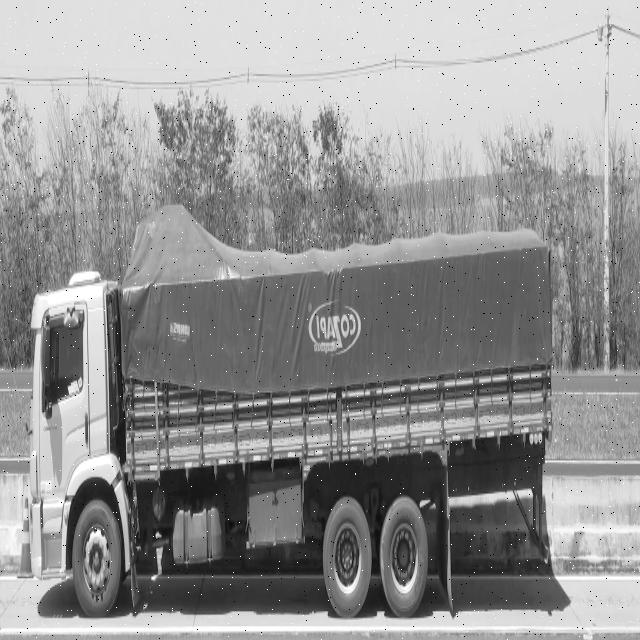-axle: (70, 495, 124, 616), (381, 496, 427, 616), (324, 498, 371, 614)
